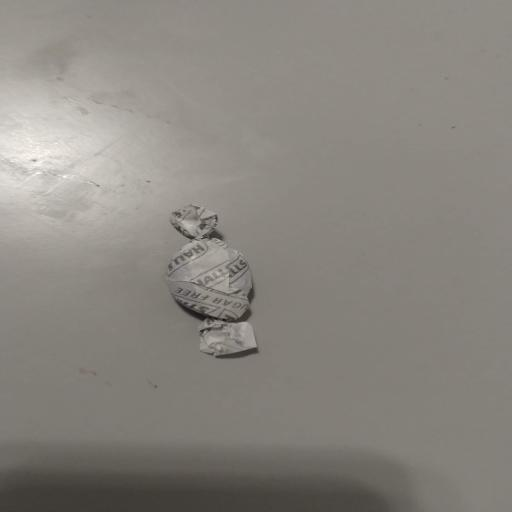chocolate: (167, 205, 256, 355)
